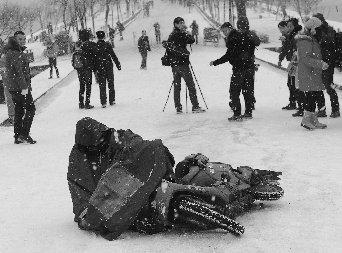10+: (1, 16, 342, 134)
down: (64, 115, 285, 242)
